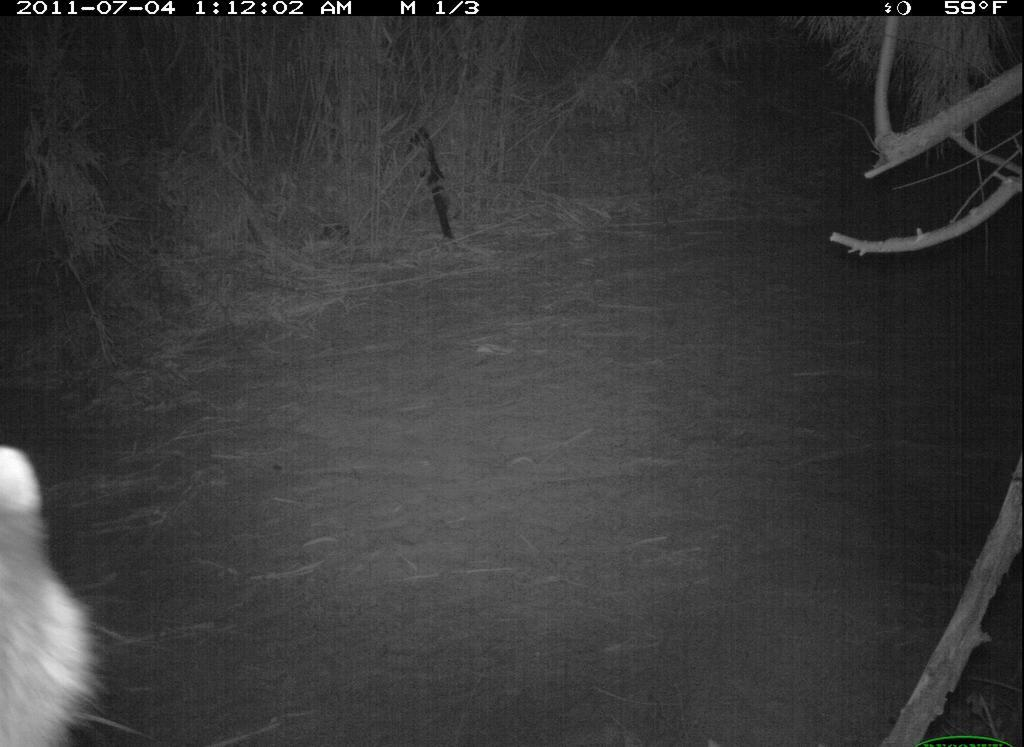raccoon: (1, 413, 125, 747)
